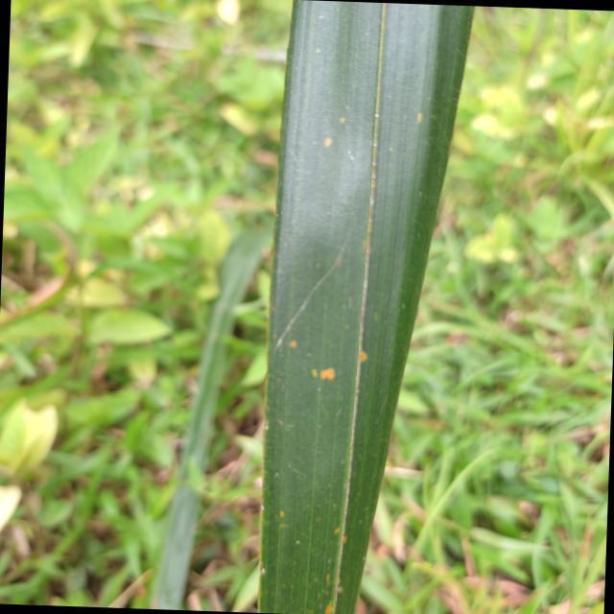Boron: (266, 0, 476, 614)
